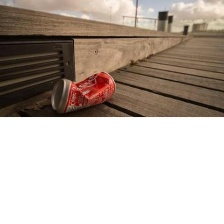can: (44, 66, 120, 118)
